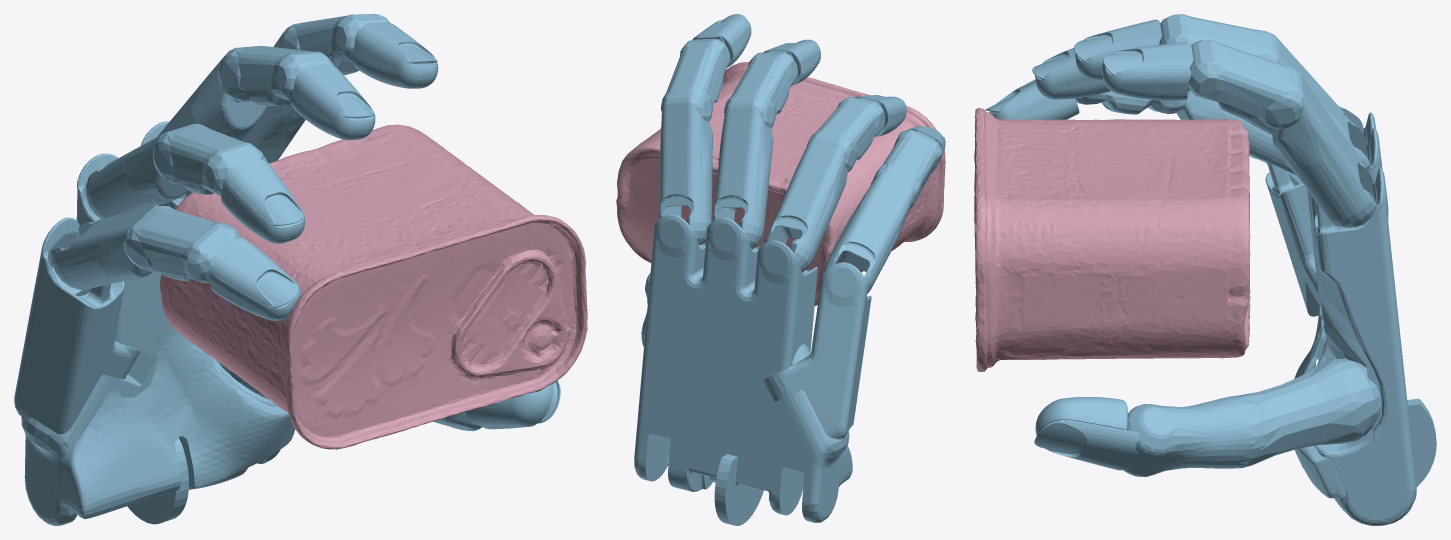
The picture shows the model from 3 angles, left to right: view 1: azimuth 30°, elevation 25°; view 2: azimuth 150°, elevation 25°; view 3: azimuth 270°, elevation 25°; orthographic projection. The views are drawn at different scales.
Visible parts, largest first — view 1: world, potted_meat_can.stl; view 2: world, potted_meat_can.stl; view 3: world, potted_meat_can.stl.
Boxes of the visible parts, x1=… form: world: x1=14, y1=14, x2=560, y2=525; potted_meat_can.stl: x1=160, y1=124, x2=587, y2=449; world: x1=634, y1=14, x2=945, y2=525; potted_meat_can.stl: x1=616, y1=62, x2=945, y2=306; world: x1=985, y1=14, x2=1436, y2=525; potted_meat_can.stl: x1=974, y1=108, x2=1250, y2=371.
Bounding box in the file's own units: 0.1288 × 0.1733 × 0.1399.
